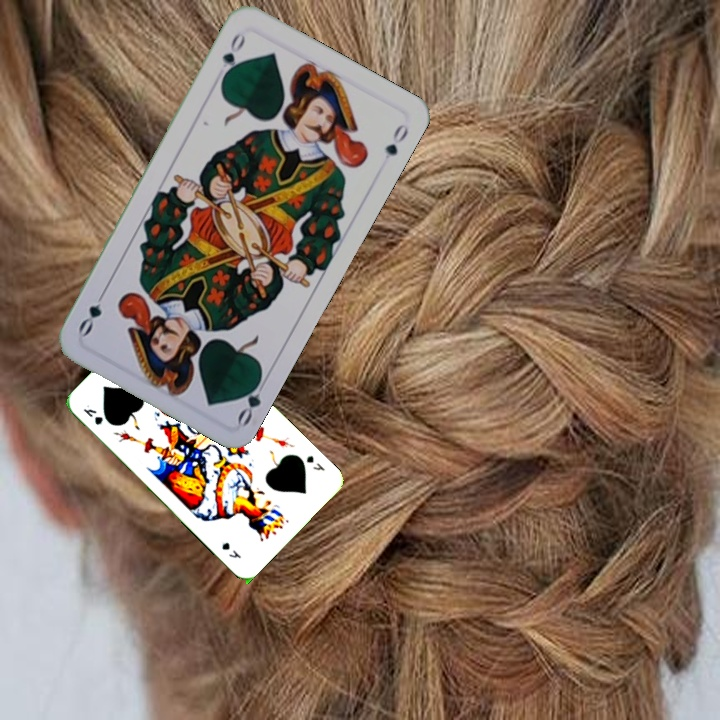GK: (79, 400, 106, 428), (302, 451, 327, 473)
GO: (233, 370, 271, 428), (217, 29, 248, 83)
